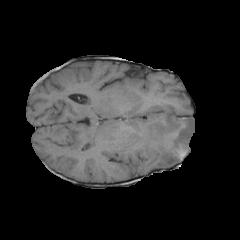glioma: (134, 110, 194, 167)
